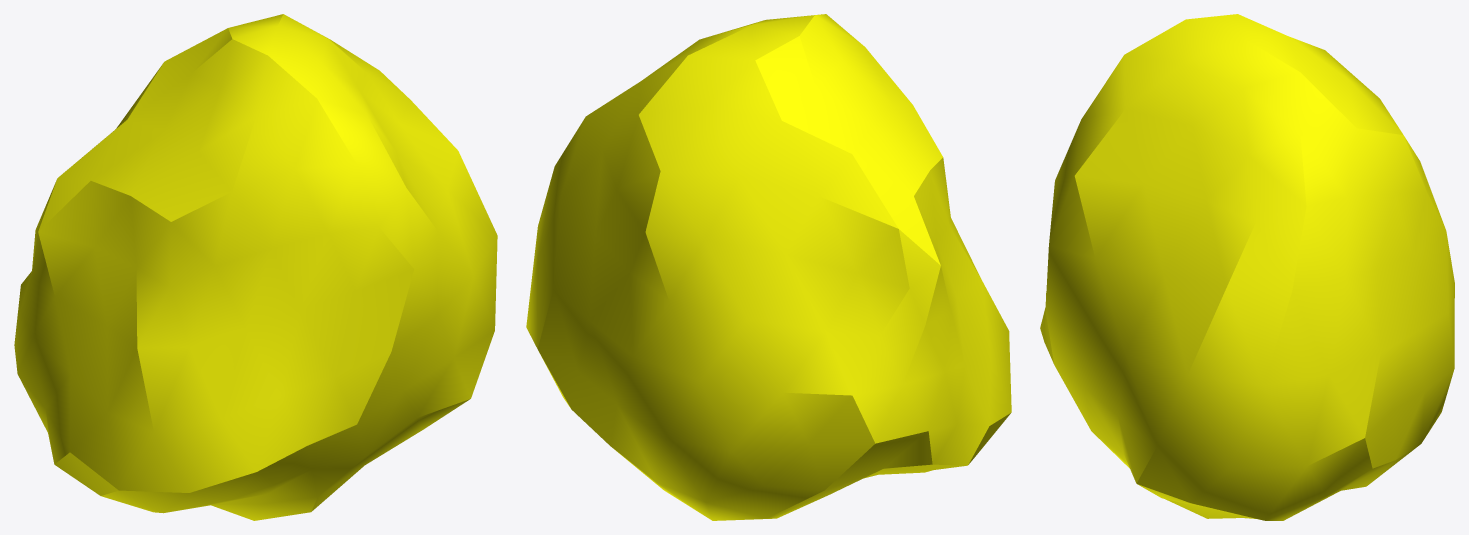
Rendered from kaykit-rock-3-m-color-1.glb.
3 views of the same model, side by side, from view 1: azimuth 30°, elevation 25°; view 2: azimuth 150°, elevation 25°; view 3: azimuth 270°, elevation 25° (orthographic). The views are drawn at different scales.
Visible parts, largest first — view 1: Rock_3_M_Color1; view 2: Rock_3_M_Color1; view 3: Rock_3_M_Color1.
Part boxes in pixels (x1,y1,x2,y2): Rock_3_M_Color1: (14, 14, 497, 520); Rock_3_M_Color1: (526, 14, 1011, 520); Rock_3_M_Color1: (1040, 14, 1454, 520).
Size of the model in its own units: 3.43 by 3.6 by 2.81.
